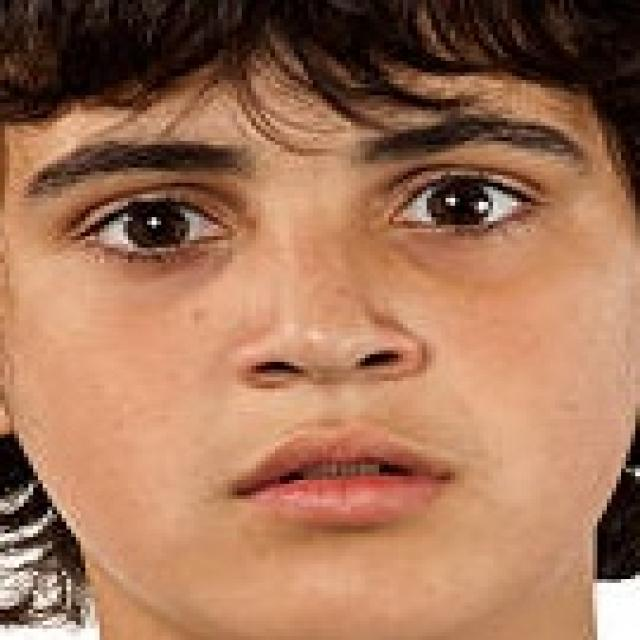Anxiety: (0, 15, 635, 636)
